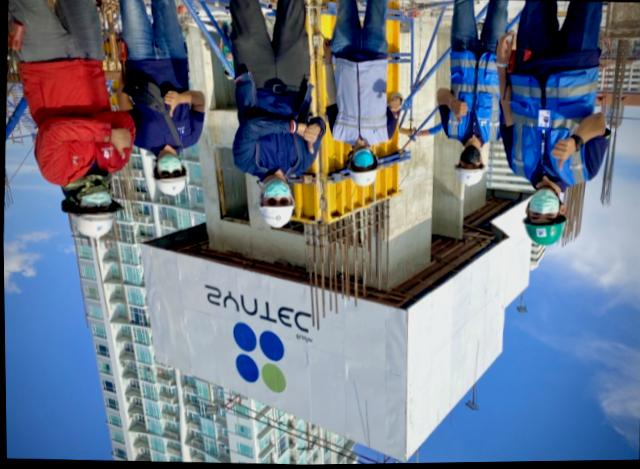helmet: (67, 202, 126, 248), (252, 200, 294, 235), (148, 168, 187, 203), (349, 164, 379, 192), (455, 166, 487, 187)
vest: (509, 64, 601, 190), (444, 48, 503, 145), (511, 214, 571, 251)
